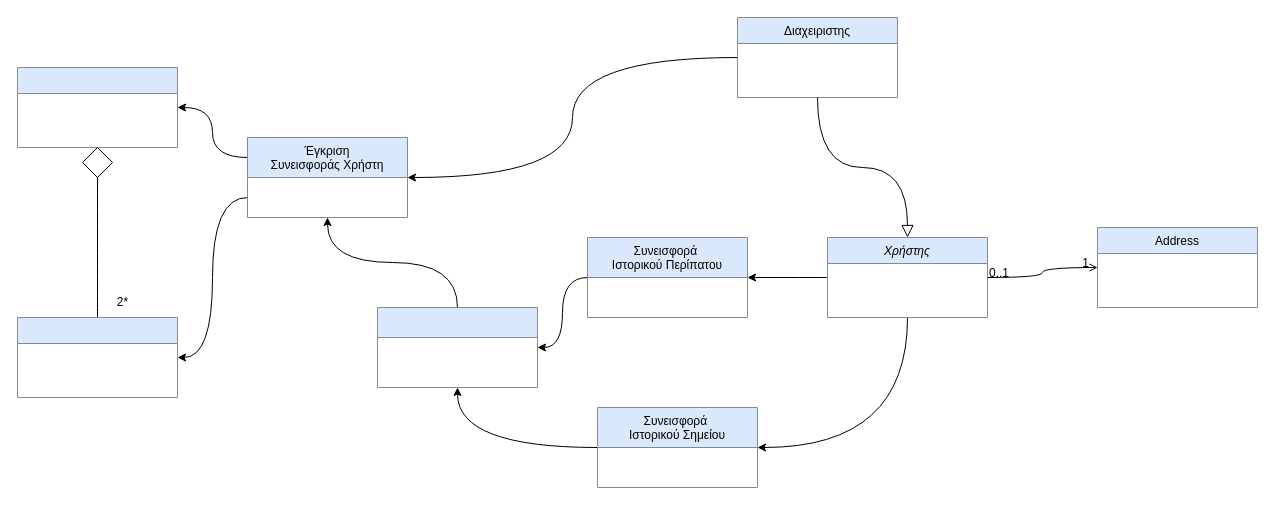
Image size: 1275x505. Some labels were removed from this diagram. Each missing label, with the centre of its shape:
"Ιστορικό Σημείο" goes at (x=97, y=357).
"Ιστορικός Περίπατος" goes at (x=97, y=107).
"Συνεισφορά" goes at (x=457, y=347).
